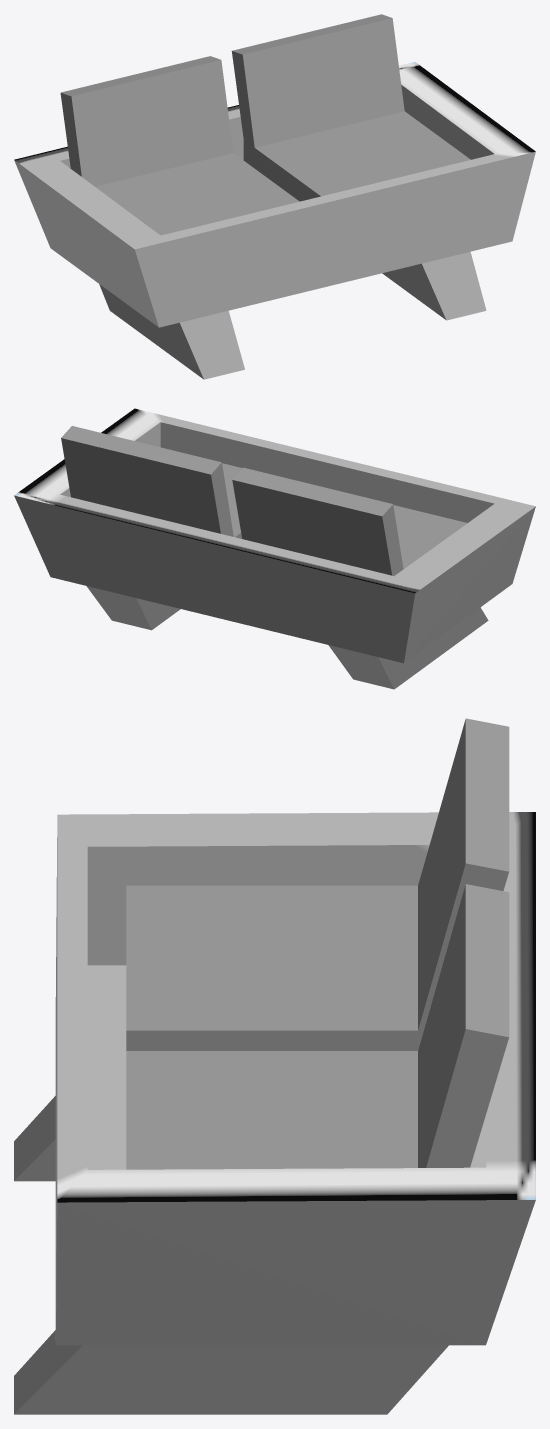
Rendered from coaster_d_c.obj.
3 views of the same model, one above another, from view 1: azimuth 30°, elevation 25°; view 2: azimuth 150°, elevation 25°; view 3: azimuth 270°, elevation 25° (orthographic). The views are drawn at different scales.
Visible parts, largest first — view 1: Cube.002, Cube1; view 2: Cube1, Cube.002; view 3: Cube.002, Cube1.
Part boxes in pixels (bbox=[...]): Cube.002: bbox=[60, 14, 486, 379]; Cube1: bbox=[14, 62, 535, 327]; Cube1: bbox=[14, 408, 535, 663]; Cube.002: bbox=[61, 426, 488, 689]; Cube.002: bbox=[14, 718, 509, 1414]; Cube1: bbox=[55, 812, 535, 1345].
Size of the model in its own units: 2.68 by 1.31 by 1.53.
